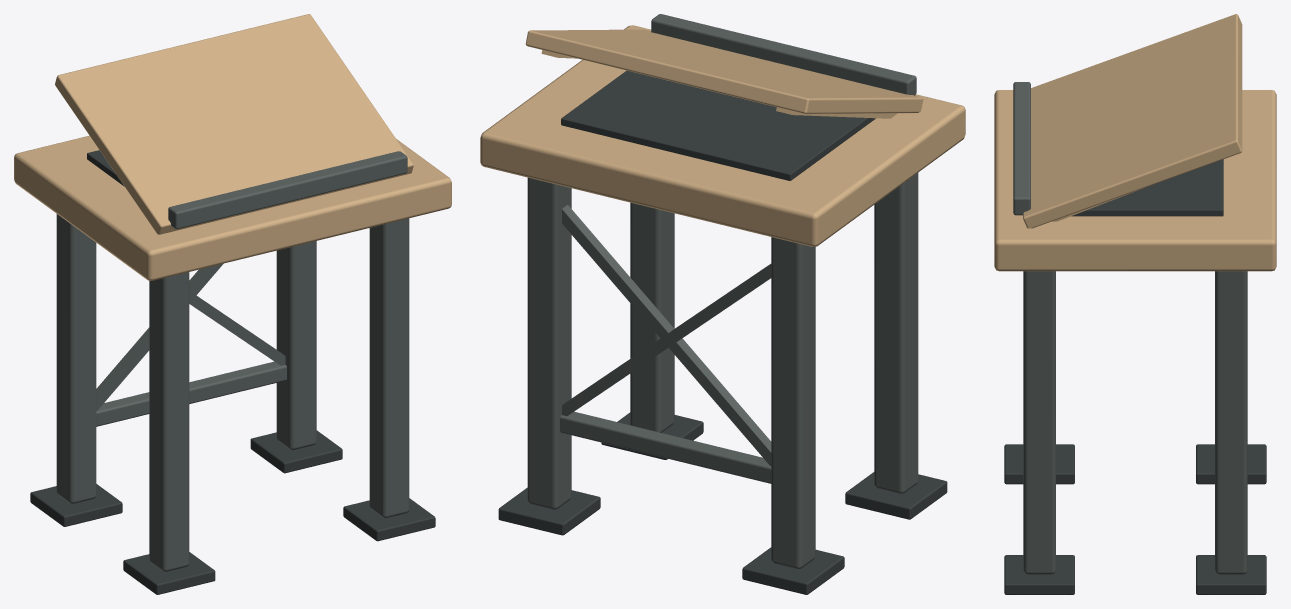
Rendered from public-library-and-reading-garden-public-library-and-r-9a8f69ea__30929.glb.
The picture shows the model from 3 angles, left to right: view 1: azimuth 30°, elevation 25°; view 2: azimuth 150°, elevation 25°; view 3: azimuth 270°, elevation 25°; orthographic projection. The views are drawn at different scales.
Visible parts, largest first — view 1: public-library-and-reading-garden-reference-dictionary-stand (×3); view 2: public-library-and-reading-garden-reference-dictionary-stand (×3); view 3: public-library-and-reading-garden-reference-dictionary-stand (×3).
Part boxes in pixels (x1=…): public-library-and-reading-garden-reference-dictionary-stand (×3): x1=14, y1=14, x2=451, y2=594; public-library-and-reading-garden-reference-dictionary-stand (×3): x1=480, y1=14, x2=965, y2=594; public-library-and-reading-garden-reference-dictionary-stand (×3): x1=994, y1=14, x2=1276, y2=594.
Bounding box in the file's own units: 0.72 × 0.9816 × 0.56.
